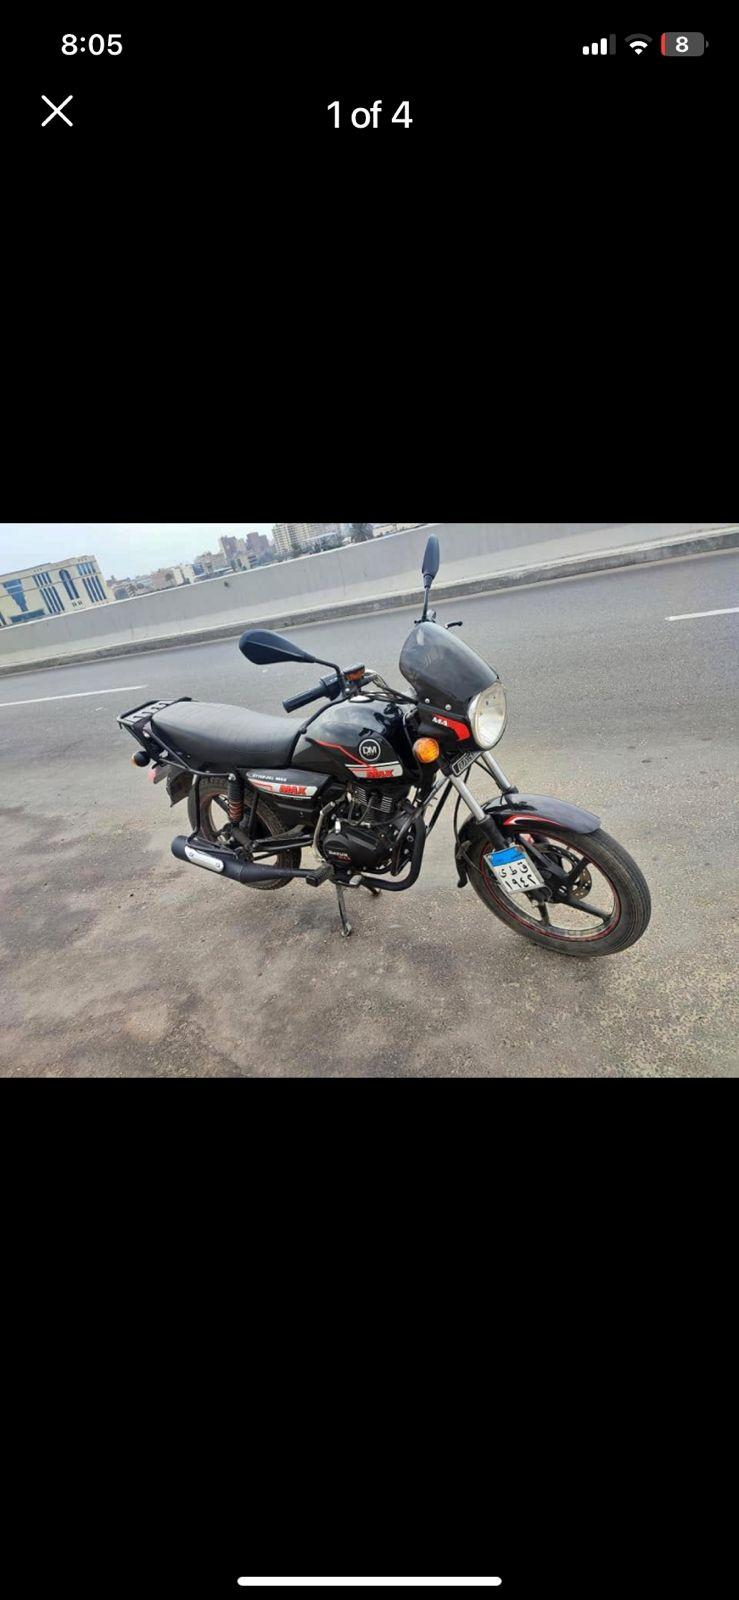License Plate: (487, 845, 545, 897)
